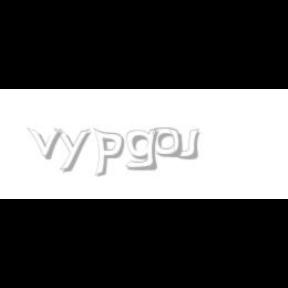P: (93, 128, 125, 178)
g: (126, 128, 162, 171)
o: (153, 128, 182, 158)
u: (169, 128, 204, 160)
v: (27, 128, 67, 160)
y: (54, 128, 94, 172)
